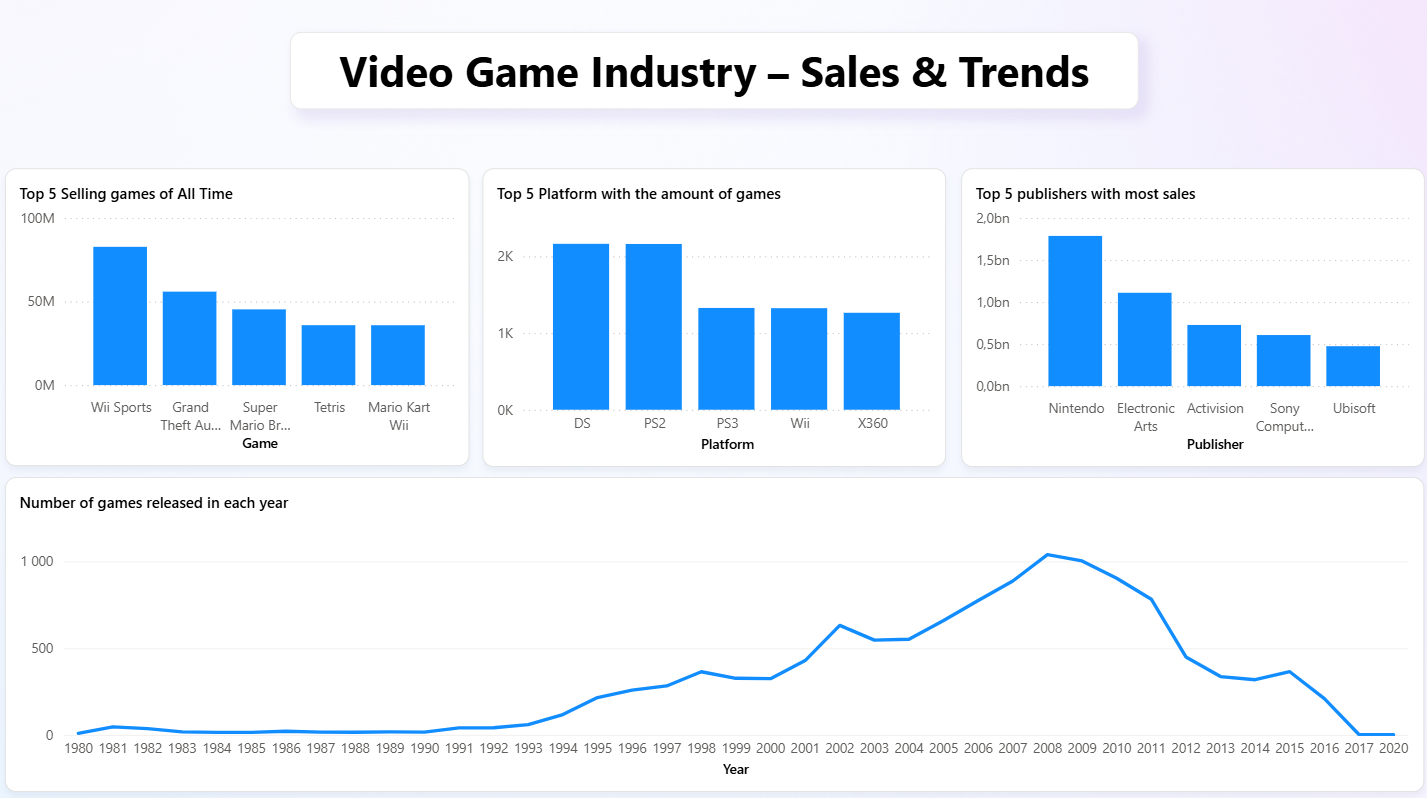

What the dashboard file says about the page in this screenshot:
{"tool":"powerbi","page":{"name":"Overview","canvas":[1280,720],"ordinal":0},"visuals":[{"type":"columnChart","title":"Top 5 Selling games of All Time","fields":{"Y":["Sum(vgsales.Global_Sales)"],"Category":["vgsales.Name"]},"box":[9.1,152.7,412.7,264.5],"z":0},{"type":"lineChart","title":"Number of games released in each year","fields":{"Y":["Count(vgsales.Name)"],"Category":["vgsales.Year"]},"box":[9.1,426.4,1261.8,280],"z":1000},{"type":"columnChart","title":"Top 5 publishers with most sales","fields":{"Category":["vgsales.Publisher"],"Y":["Sum(vgsales.Global_Sales)"]},"box":[859.1,151.8,411.8,265.5],"z":2000},{"type":"columnChart","title":"Top 5 Platform with the amount of games","fields":{"Category":["vgsales.Platform"],"Y":["Count(vgsales.Name)"]},"box":[433.6,151.8,411.8,265.5],"z":3000},{"type":"textbox","box":[262.7,30.9,754.5,69.1],"z":4000}]}

Visuals, with their boxes in screenshot pixels (x1, y1, x2, y2), scaled from the page's 1280x720 canvas onto the 1427x798 screenshot:
"Top 5 Selling games of All Time" columnChart: l=10, t=169, r=470, b=462
"Number of games released in each year" lineChart: l=10, t=473, r=1417, b=783
"Top 5 publishers with most sales" columnChart: l=958, t=168, r=1417, b=463
"Top 5 Platform with the amount of games" columnChart: l=483, t=168, r=942, b=463
textbox: l=293, t=34, r=1134, b=111
